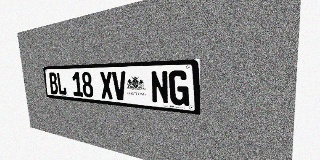1: (71, 72, 83, 97)
8: (81, 72, 94, 98)
B: (48, 72, 58, 95)
G: (169, 70, 189, 106)
L: (56, 72, 67, 95)
N: (150, 71, 169, 104)
V: (112, 71, 127, 101)
X: (99, 71, 114, 99)
